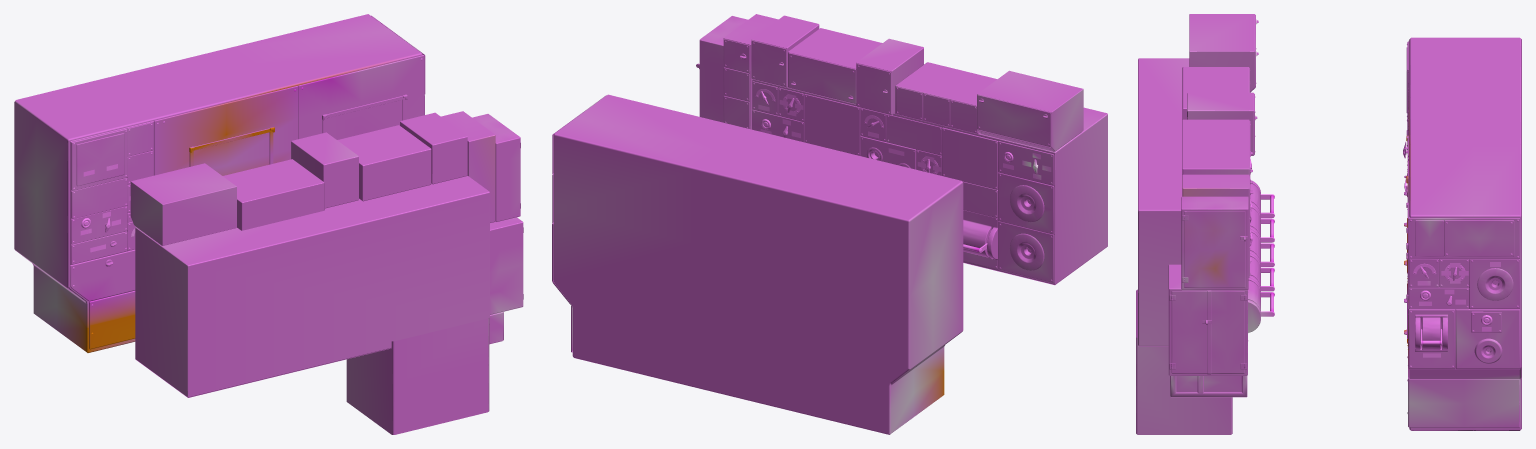
The model's file is SM_Level_ElectricRoom-A1.fbx.
The picture shows the model from 3 angles, left to right: view 1: azimuth 30°, elevation 25°; view 2: azimuth 150°, elevation 25°; view 3: azimuth 270°, elevation 25°; orthographic projection. The views are drawn at different scales.
Parts seen in each view (by area): view 1: SM_Level_ElectricRoom-A1_LOD0; view 2: SM_Level_ElectricRoom-A1_LOD0; view 3: SM_Level_ElectricRoom-A1_LOD0.
Part boxes in pixels (x1,y1,x2,y2): SM_Level_ElectricRoom-A1_LOD0: [14, 14, 523, 434]; SM_Level_ElectricRoom-A1_LOD0: [552, 14, 1107, 434]; SM_Level_ElectricRoom-A1_LOD0: [1136, 14, 1521, 434].
Size of the model in its own units: 623 by 514 by 399.
